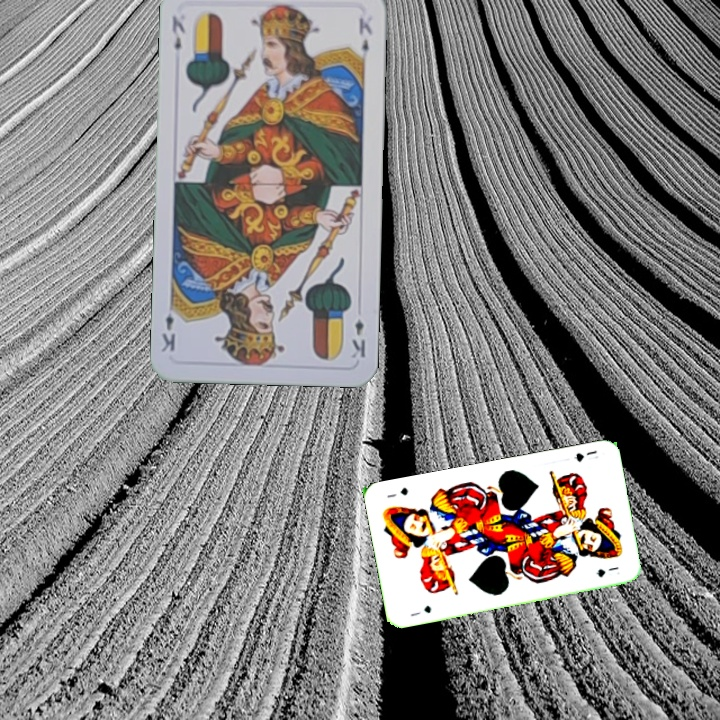EK: (347, 315, 368, 361), (168, 12, 188, 53)
GU: (570, 446, 601, 465), (407, 601, 434, 619)
